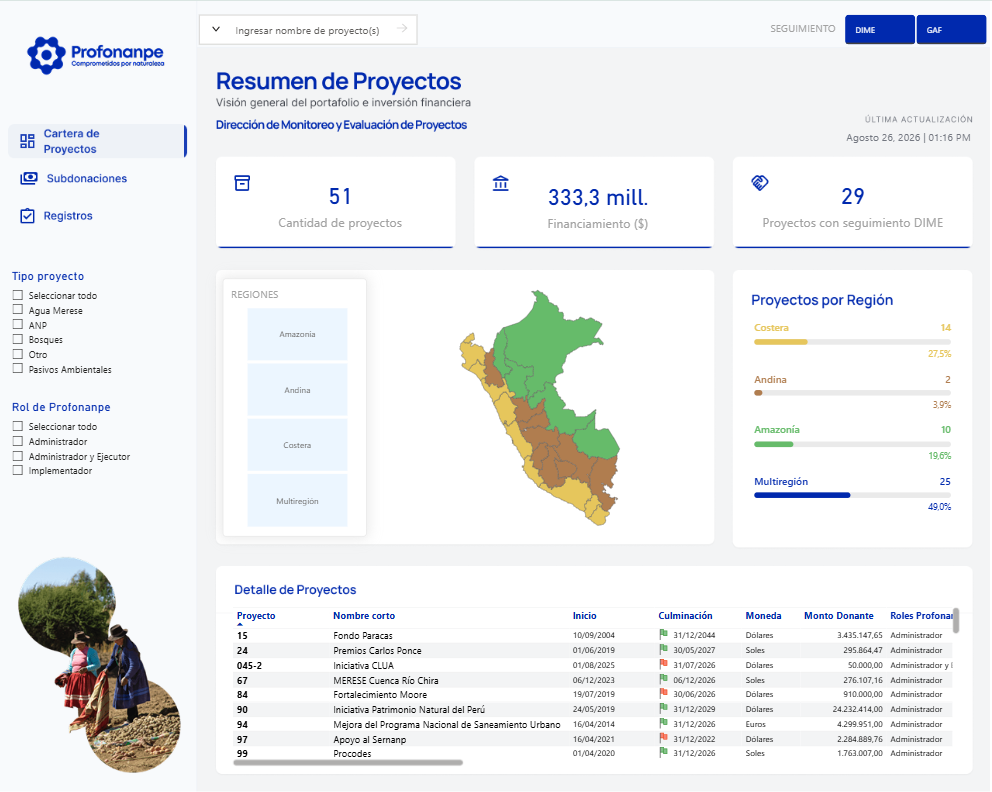

The dashboard page shown, as its layout file describes it:
{"tool":"powerbi","page":{"name":"Cartera de Proyectos","canvas":[1280,1024],"ordinal":0},"visuals":[{"type":"advancedSlicerVisual","fields":{"Values":["Fact_Proyectos.Seguimiento"]},"box":[1086.2,12.5,193.8,48],"z":0},{"type":"card","fields":{"Values":["_Measure.Monto Dolarizado"]},"box":[648.6,207.6,248.8,108.1],"z":1000},{"type":"card","fields":{"Values":["Measure.Total Proyectos DIME"]},"box":[978.6,205.7,245.7,108.6],"z":2000},{"type":"card","fields":{"Values":["Measure.N_Proyectos"]},"box":[315.7,205.7,248.6,108.6],"z":3000},{"type":"shapeMap","fields":{"Category":["Dim_Departamentos.Departamento"],"Series":["Dim_Ubicacion.Ubigeo"],"Value":["_Measure.Proyectos por Departamento"]},"box":[474.3,351.4,447.1,347.1],"z":4000},{"type":"slicer","title":"REGIONES","fields":{"Values":["Fact_Proyectos.Región"]},"box":[288.6,357.1,185.7,332.9],"z":5000},{"type":"textSlicer","fields":{"Values":["Fact_Proyectos.Nombre corto"]},"box":[252.9,12.9,291.4,48.6],"z":6000},{"type":"htmlContent443BE3AD55E043BF878BED274D3A6855","fields":{"content":["_Measure.HTML Región2"]},"box":[957.1,392.9,287.1,327.1],"z":7000},{"type":"cardVisual","fields":{"Data":["_Measure.Fecha Actualizacion"]},"box":[1050,141.4,212.9,64.3],"z":8000},{"type":"listSlicer","fields":{"Values":["Fact_Proyectos.Tipo proyecto"]},"box":[12,344.6,253.9,144.1],"z":9000},{"type":"listSlicer","fields":{"Values":["Dim_Roles.Rol de Profonanpe"]},"box":[12,514.1,253.9,109.8],"z":10000},{"type":"pageNavigator","box":[12.5,160,227.5,43.8],"z":11000},{"type":"pivotTable","fields":{"Rows":["Fact_Proyectos.CodigoProyecto","Fact_Proyectos.Nombre corto"],"Values":["Min(Fact_Proyectos.Fecha de inicio)","Min(Fact_Proyectos.Fecha Max)","Min(Fact_Proyectos.Moneda)","Sum(Fact_Proyectos.Monto del donante)","_Measure.Roles Profonanpe","Min(Fact_Proyectos.Fuente de financiamiento)","Min(Fact_Proyectos.Ejecutor)","Min(Fact_Proyectos.Aliados para la ejecución ( Gores, Municipalidades y  Empresas))","Min(Fact_Proyectos.Avances Clave ( al 31.12.25))"]},"box":[296.8,777.3,947.1,214.5],"z":12000},{"type":"actionButton","box":[655.4,205.9,250.5,108.1],"z":13000},{"type":"textbox","box":[990,21.4,117.1,40],"z":14000},{"type":"pageNavigator","box":[12,205.9,228.2,42.9],"z":16000}]}

Visuals, with their boxes on the page's 1280x1024 design canvas (x1, y1, x2, y2). These are canvas units, not pixel positions in the 992x792 screenshot, which may show the page scaled, cropped or inside an application window:
advancedSlicerVisual - Fact_Proyectos.Seguimiento: 1086:12:1280:60
card - _Measure.Monto Dolarizado: 649:208:897:316
card - Measure.Total Proyectos DIME: 979:206:1224:314
card - Measure.N_Proyectos: 316:206:564:314
shapeMap - Dim_Departamentos.Departamento x Dim_Ubicacion.Ubigeo: 474:351:921:698
"REGIONES" slicer: 289:357:474:690
textSlicer - Fact_Proyectos.Nombre corto: 253:13:544:62
htmlContent443BE3AD55E043BF878BED274D3A6855 - _Measure.HTML Región2: 957:393:1244:720
cardVisual - _Measure.Fecha Actualizacion: 1050:141:1263:206
listSlicer - Fact_Proyectos.Tipo proyecto: 12:345:266:489
listSlicer - Dim_Roles.Rol de Profonanpe: 12:514:266:624
pageNavigator: 12:160:240:204
pivotTable - Fact_Proyectos.CodigoProyecto x Fact_Proyectos.Nombre corto: 297:777:1244:992
actionButton: 655:206:906:314
textbox: 990:21:1107:61
pageNavigator: 12:206:240:249
